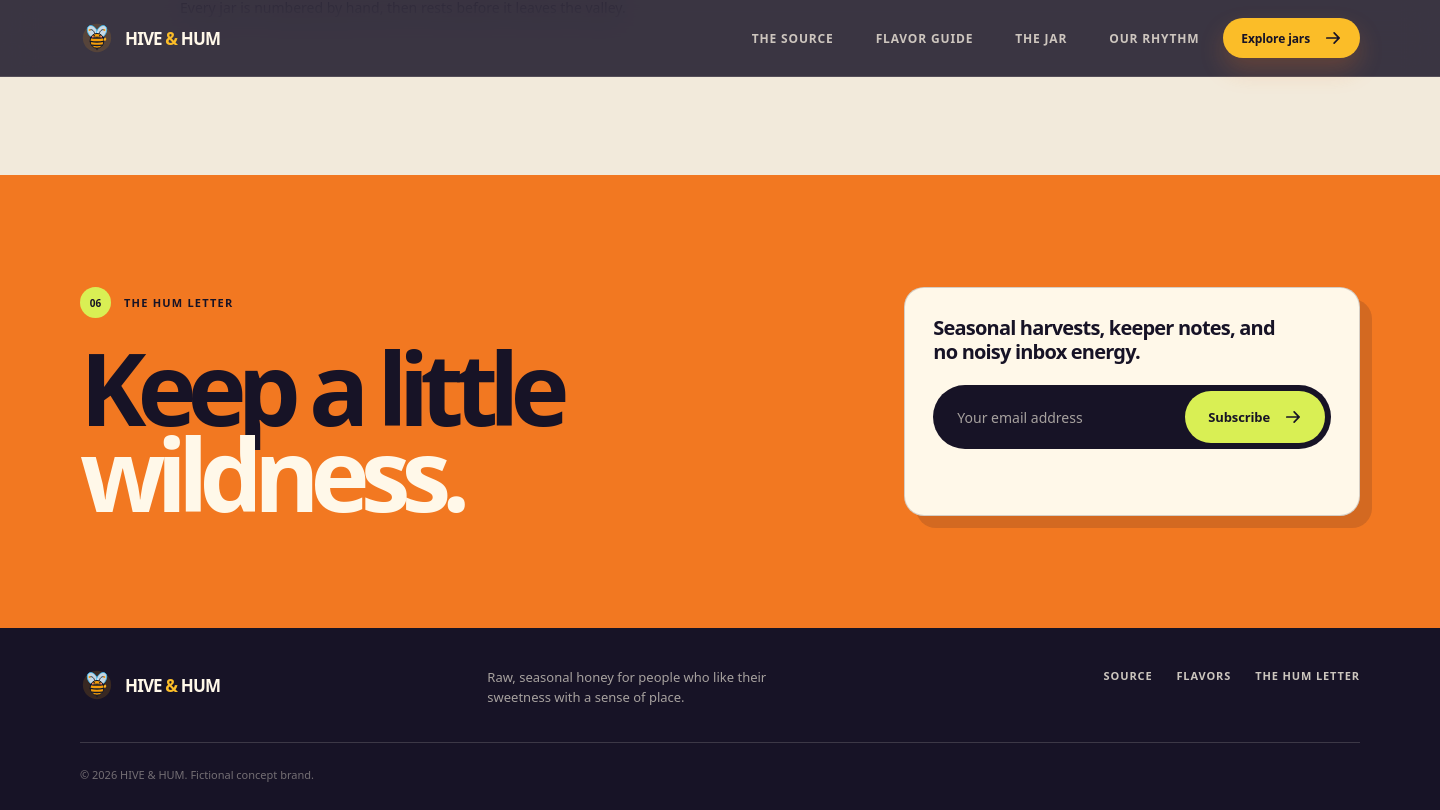
Test: HIVE & HUM editorial landing page contract › handles empty newsletter submission with an accessible error
The image size is (1440, 810).
(page scrolled)
Click the button "Subscribe" at (1255,417), box [1185,391,1325,443]
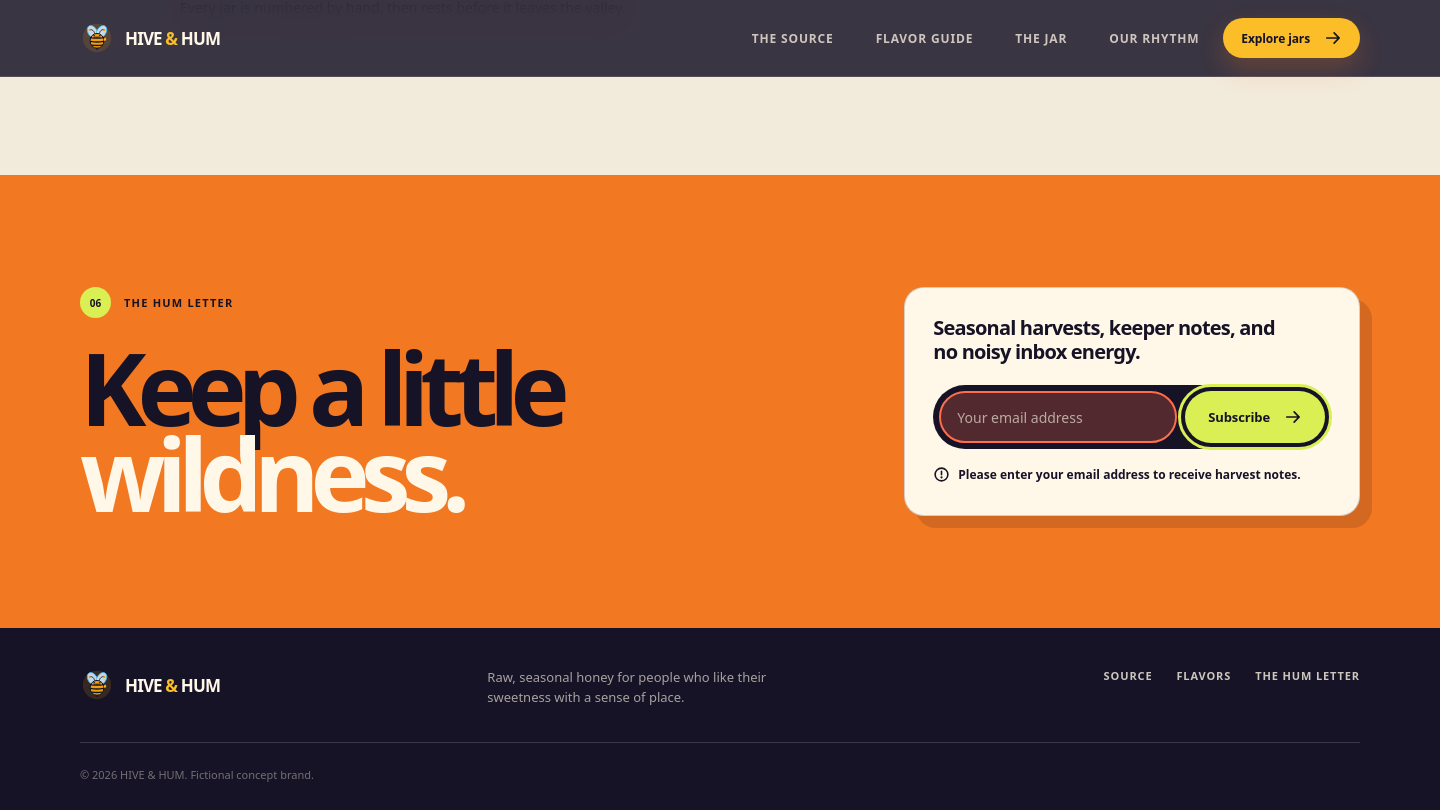
Result: the message shows "Please enter your email address" at [958,466,1301,483]
